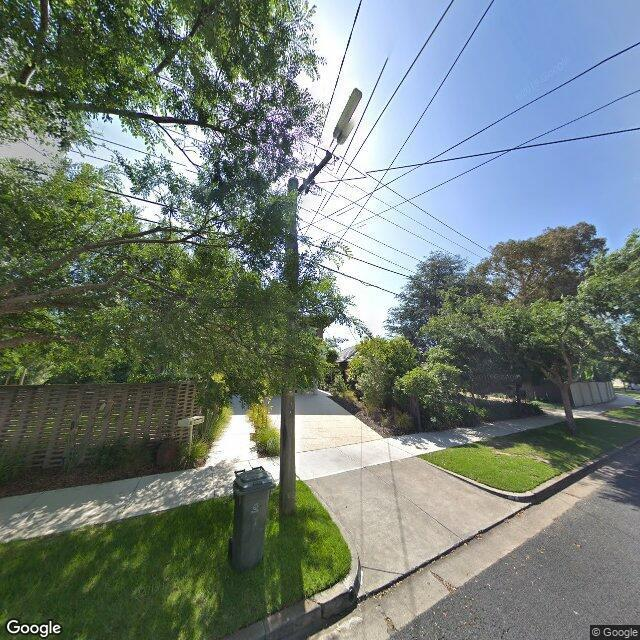crossarm: (298, 152, 332, 195)
streetlight: (328, 88, 363, 153)
timber-pole: (280, 177, 298, 516)
